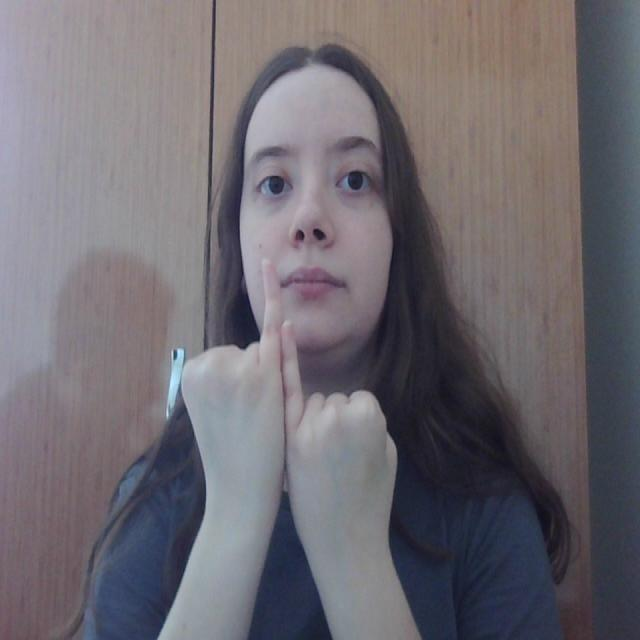Kardes: (177, 252, 402, 562)
